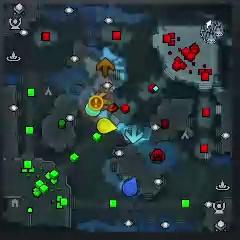p1: (122, 176, 138, 196)
p2: (85, 100, 101, 116)
p4: (97, 117, 118, 134)
x2: (98, 92, 111, 105)
x3: (125, 125, 143, 142)
x5: (96, 58, 114, 78)
